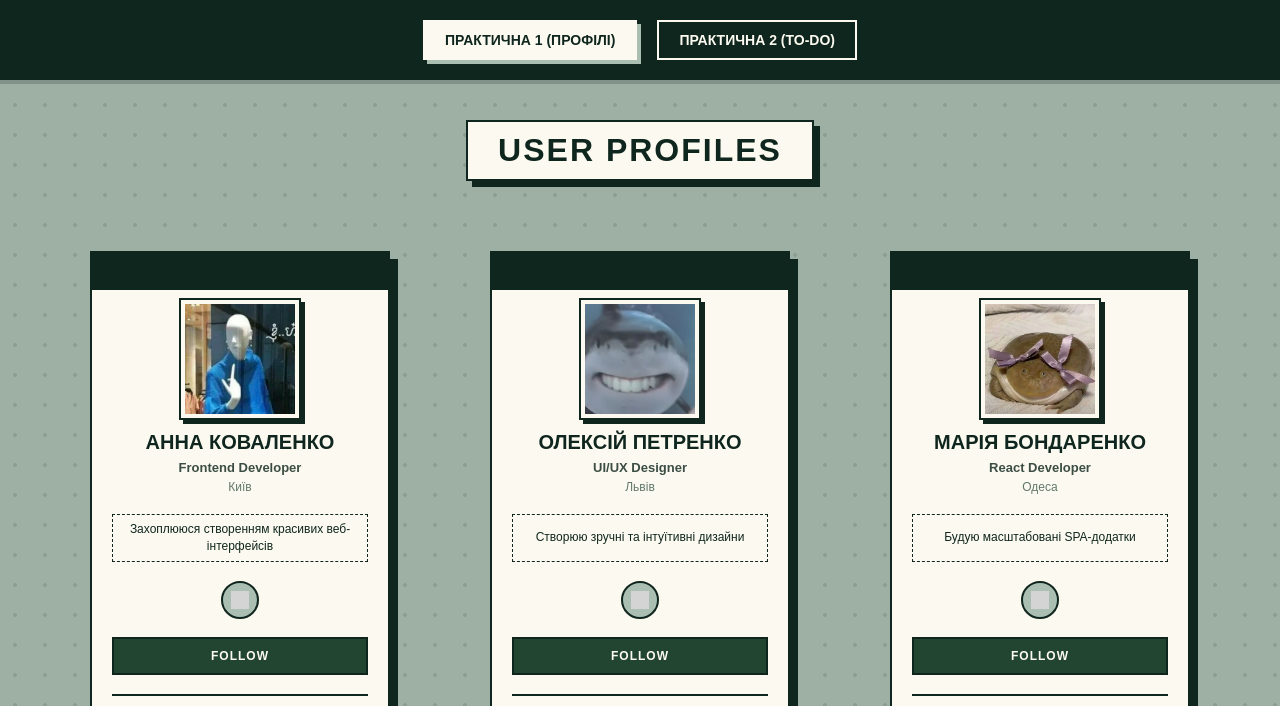
it: перемикання на вкладку To-Do відображає список завдань
Click the button "Практична 2 (To-Do)" at (757, 40), box [657, 20, 857, 60]
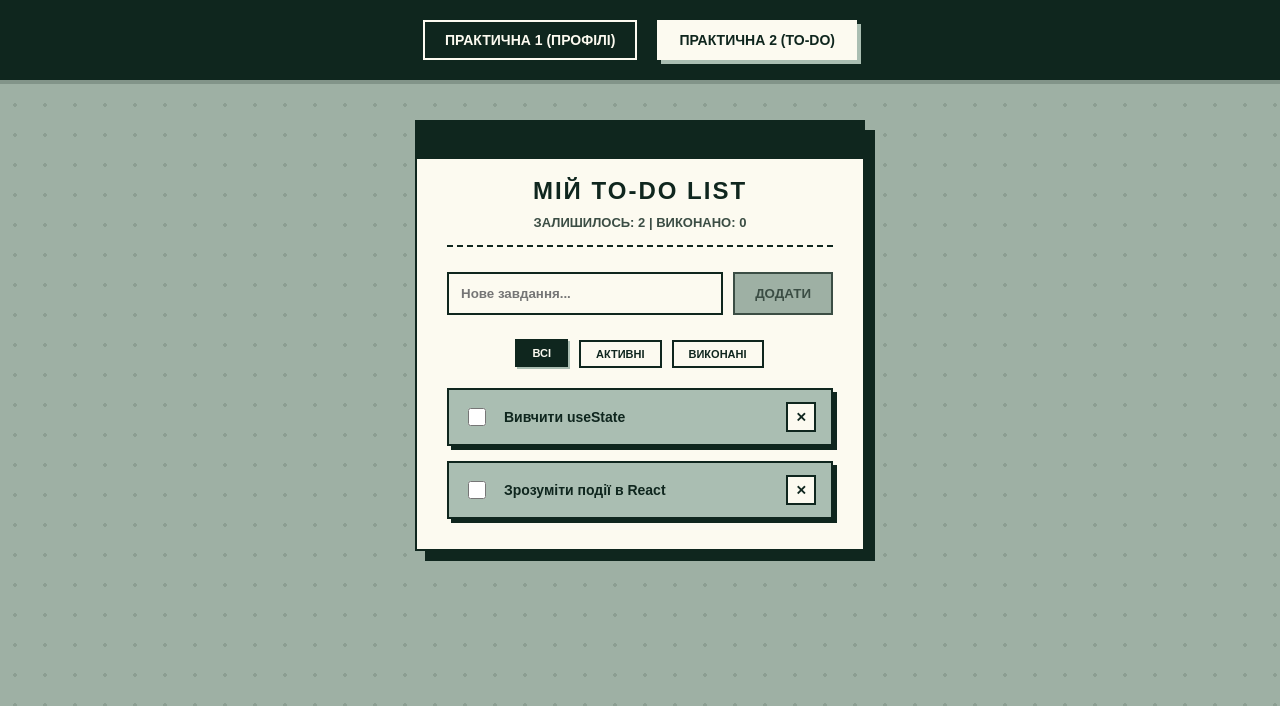
Expected: the heading "Мій To-Do List" is shown, [533, 177, 747, 204]
